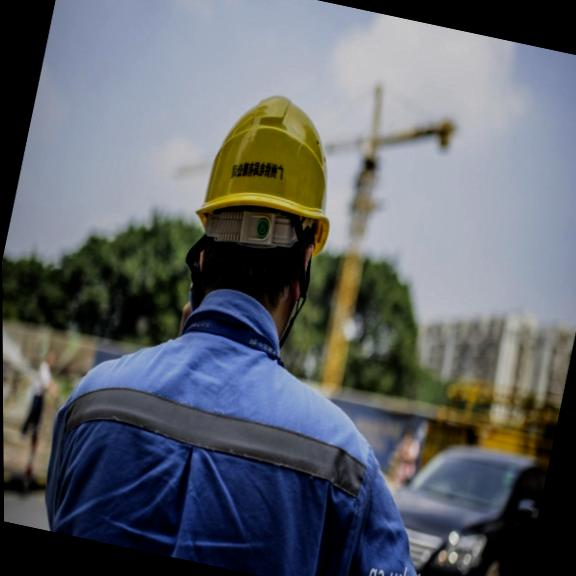no_safety_vest: (33, 265, 392, 576)
